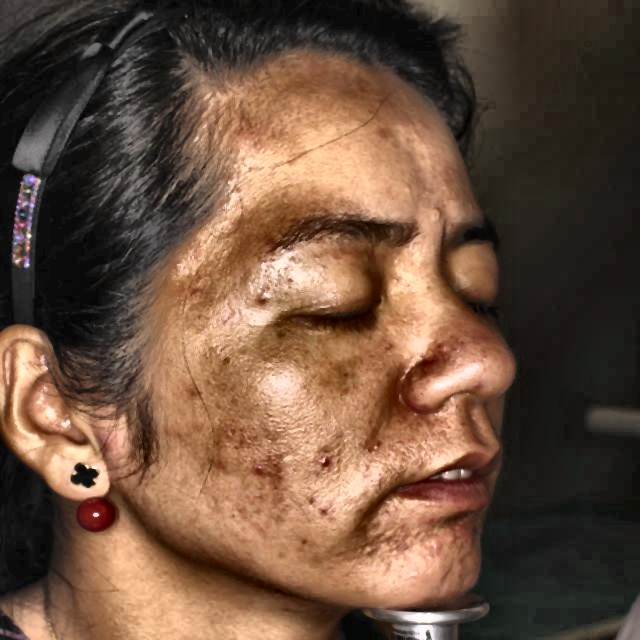pustule: (310, 493, 342, 518), (311, 454, 336, 482), (235, 126, 256, 153), (424, 200, 445, 227), (251, 458, 267, 486), (156, 420, 174, 440), (268, 458, 282, 479), (249, 289, 267, 305)
